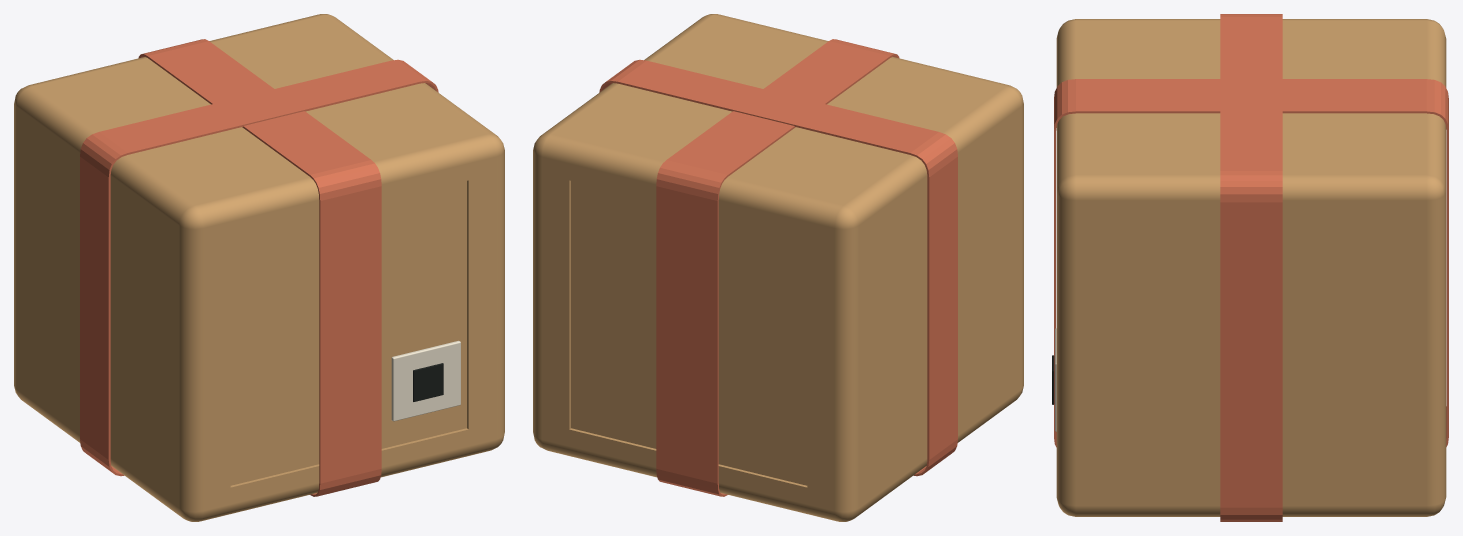
Rendered from play-parcel-small-coral.glb.
The picture shows the model from 3 angles, left to right: view 1: azimuth 30°, elevation 25°; view 2: azimuth 150°, elevation 25°; view 3: azimuth 270°, elevation 25°; orthographic projection. The views are drawn at different scales.
Visible parts, largest first — view 1: Parcel_Carton, Parcel_Tape_Continuous_Front_Back, Parcel_Tape_Continuous_Left_Right, Parcel_Paper_Label, Parcel_Label_Square; view 2: Parcel_Carton, Parcel_Tape_Continuous_Front_Back, Parcel_Tape_Continuous_Left_Right; view 3: Parcel_Carton, Parcel_Tape_Continuous_Left_Right, Parcel_Tape_Continuous_Front_Back.
Part boxes in pixels (x1,y1,x2,y2): Parcel_Carton: (14, 14, 504, 521); Parcel_Tape_Continuous_Front_Back: (138, 39, 381, 496); Parcel_Tape_Continuous_Left_Right: (80, 59, 438, 476); Parcel_Paper_Label: (391, 340, 460, 421); Parcel_Label_Square: (413, 363, 443, 401); Parcel_Carton: (533, 14, 1023, 521); Parcel_Tape_Continuous_Front_Back: (656, 39, 899, 496); Parcel_Tape_Continuous_Left_Right: (599, 59, 957, 476); Parcel_Carton: (1056, 19, 1446, 516); Parcel_Tape_Continuous_Left_Right: (1220, 14, 1282, 521); Parcel_Tape_Continuous_Front_Back: (1054, 79, 1448, 447).
Size of the model in its own units: 0.148 by 0.138 by 0.1427.
